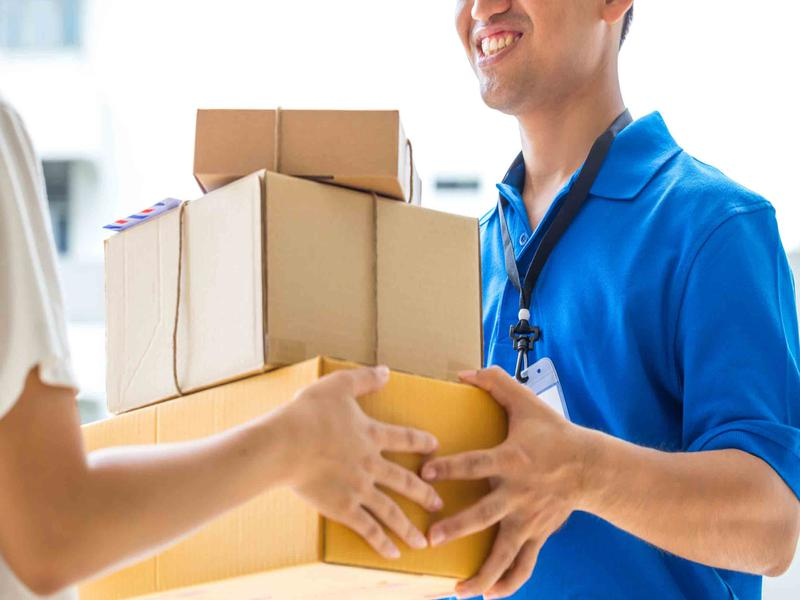package: (86, 166, 490, 413), (188, 99, 429, 212)
